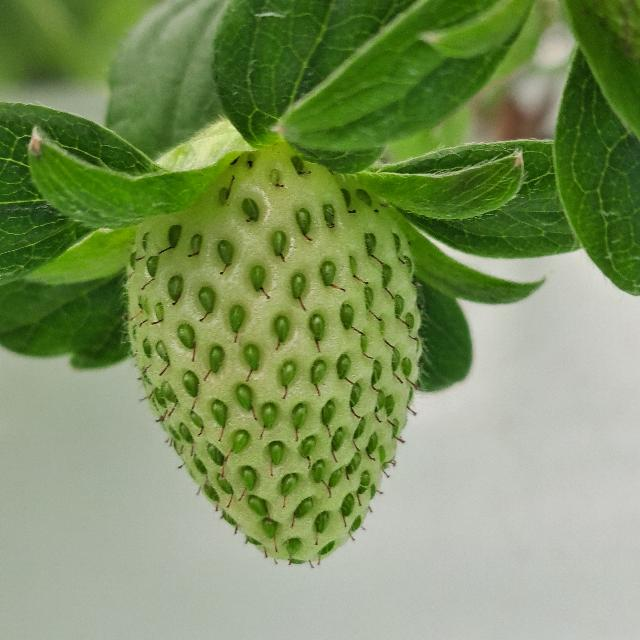Health_25: (126, 141, 422, 561)
